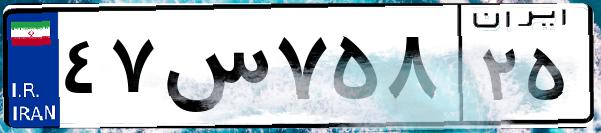2: (475, 38, 525, 113)
4: (57, 26, 110, 100)
5: (330, 28, 385, 110), (525, 38, 570, 115)
7: (270, 28, 330, 110), (110, 28, 158, 98)
8: (385, 28, 445, 110)
س: (158, 20, 270, 120)
